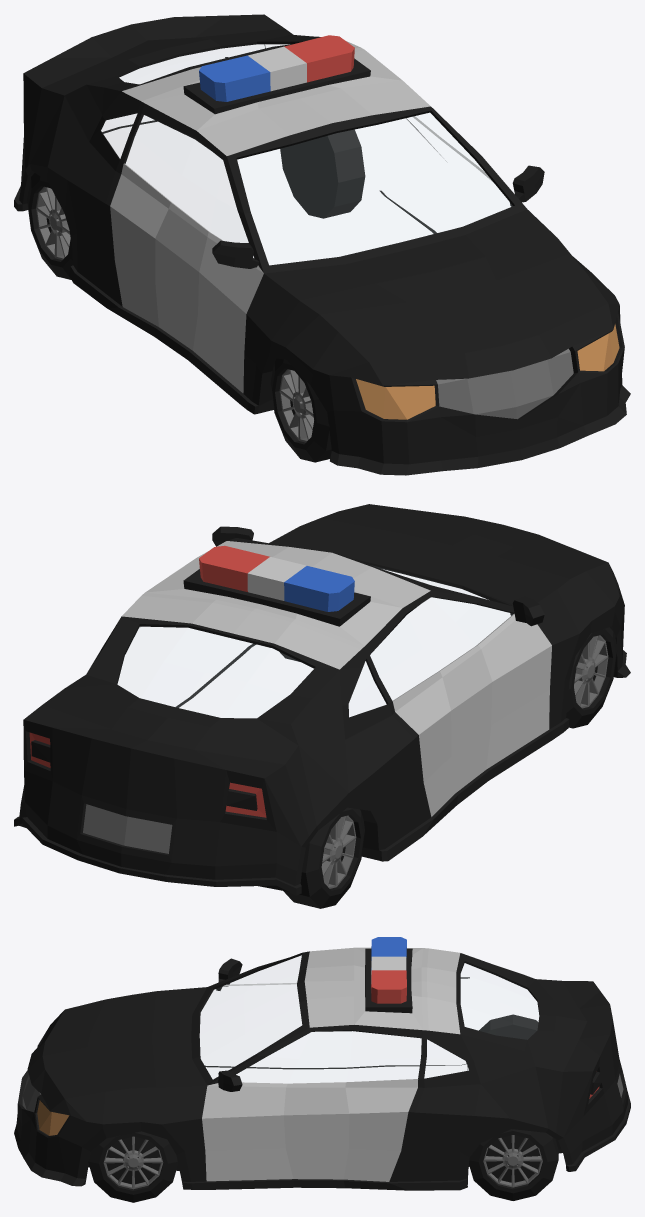
File: police-car.glb
3 views of the same model, one above another, from view 1: azimuth 30°, elevation 25°; view 2: azimuth 150°, elevation 25°; view 3: azimuth 270°, elevation 25° (orthographic). The views are drawn at different scales.
Parts seen in each view (by area): view 1: Cop_Cube.001, Cop_BackWheels_Cylinder.001, Cop_FrontRightWheel_Cylinder.012; view 2: Cop_Cube.001, Cop_BackWheels_Cylinder.001, Cop_FrontRightWheel_Cylinder.012; view 3: Cop_Cube.001, Cop_BackWheels_Cylinder.001, Cop_FrontLeftWheel_Cylinder.011.
Part boxes in pixels (box(x1,y1,x2,y2)): Cop_Cube.001: box(14, 14, 630, 475); Cop_BackWheels_Cylinder.001: box(27, 129, 365, 279); Cop_FrontRightWheel_Cylinder.012: box(270, 358, 331, 462); Cop_Cube.001: box(14, 504, 630, 895); Cop_BackWheels_Cylinder.001: box(283, 807, 364, 908); Cop_FrontRightWheel_Cylinder.012: box(566, 627, 617, 728); Cop_Cube.001: box(14, 937, 630, 1190); Cop_BackWheels_Cylinder.001: box(467, 1014, 558, 1200); Cop_FrontLeftWheel_Cylinder.011: box(88, 1131, 178, 1202).
Size of the model in its own units: 2.29 by 1.59 by 4.8.
